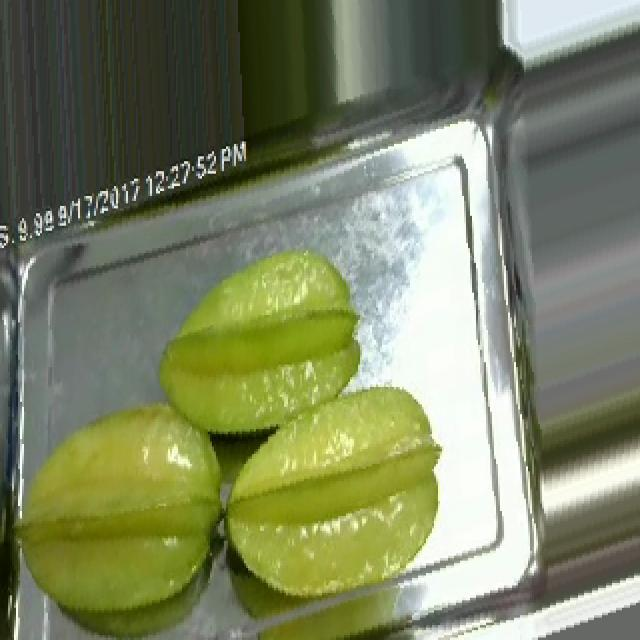fruit: (206, 350, 460, 635), (0, 367, 242, 640), (130, 231, 386, 466)
